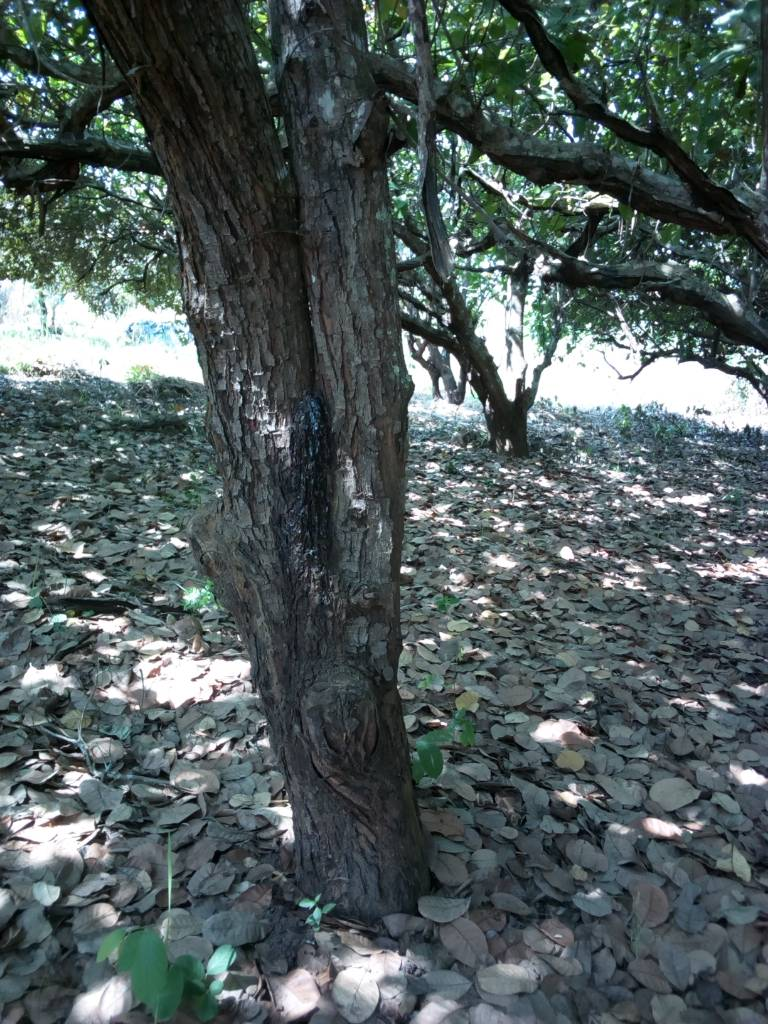Gommose: (293, 391, 335, 564)
